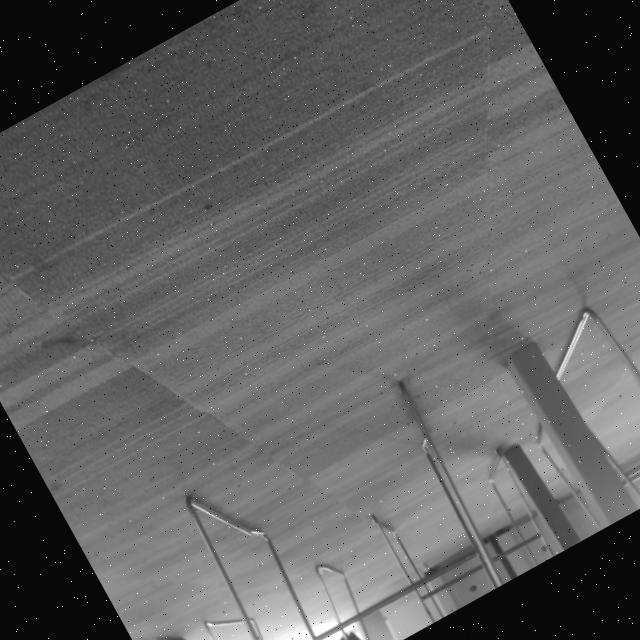ping-pong-ball: (419, 560, 431, 574)
